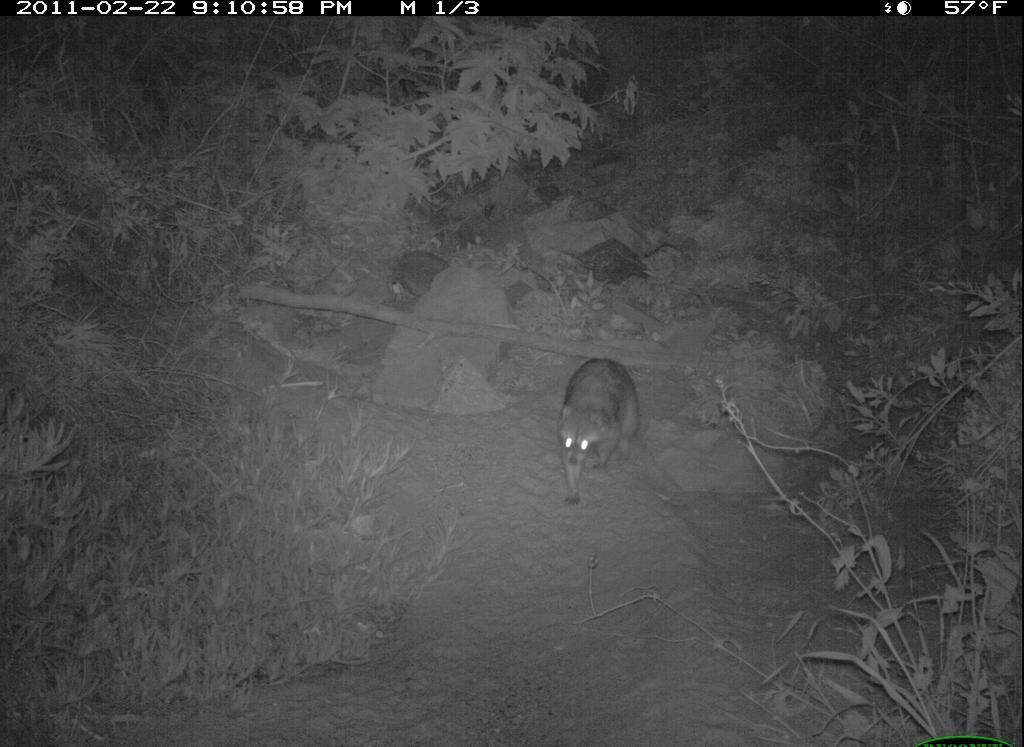raccoon: (553, 358, 641, 506)
